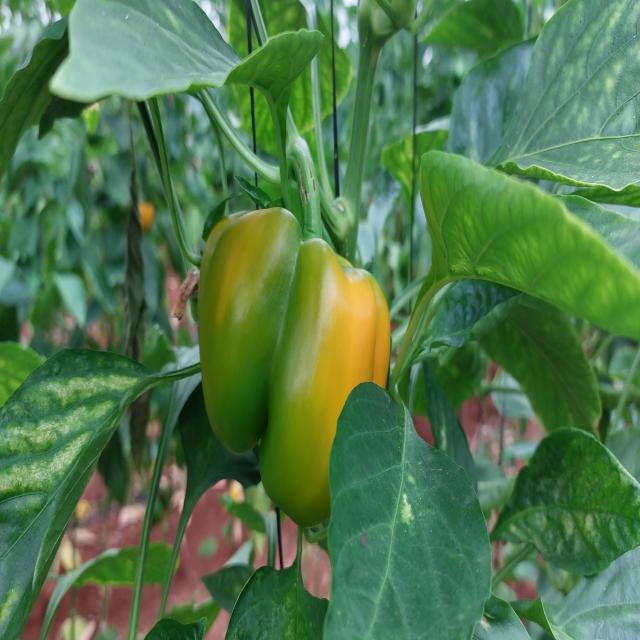GreenishYellow--Can-be-Harvested: (191, 150, 399, 521)
